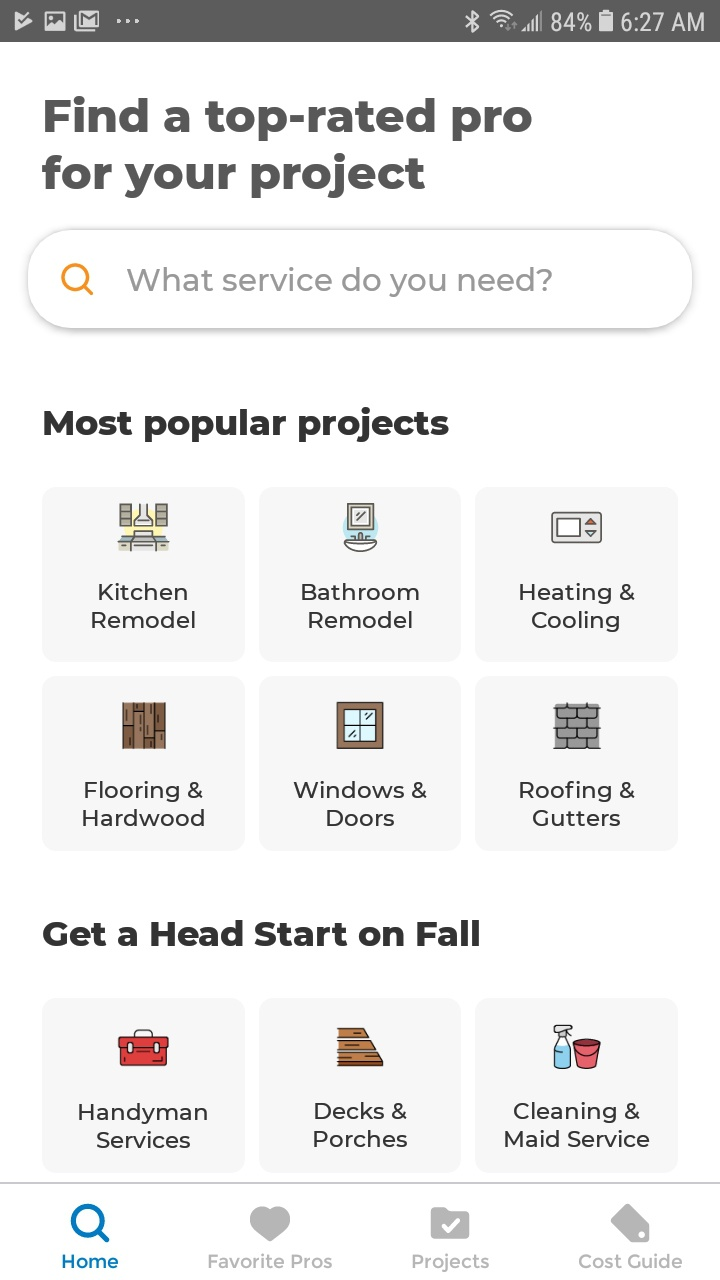EditText: (28, 229, 693, 330)
Icon: (610, 1203, 650, 1243), (71, 1203, 111, 1242), (250, 1205, 291, 1242), (431, 1206, 470, 1240), (62, 263, 95, 296)
Image: (117, 503, 171, 553), (336, 701, 385, 750), (553, 702, 602, 750), (552, 1024, 602, 1070), (122, 702, 168, 750), (118, 1028, 170, 1067), (336, 1027, 384, 1067), (343, 503, 380, 553), (551, 511, 603, 544)
Text: (42, 96, 533, 199), (44, 407, 450, 443), (128, 267, 553, 298), (43, 920, 480, 947), (504, 1101, 650, 1148), (293, 781, 427, 827), (79, 1102, 208, 1149), (520, 583, 635, 633), (83, 781, 206, 827), (302, 583, 420, 629), (520, 781, 636, 827), (92, 583, 196, 629), (314, 1101, 408, 1148), (209, 1252, 333, 1269), (578, 1253, 683, 1269), (412, 1252, 490, 1273), (63, 1253, 120, 1269)
UpperTaskBar: (1, 1, 720, 43)
